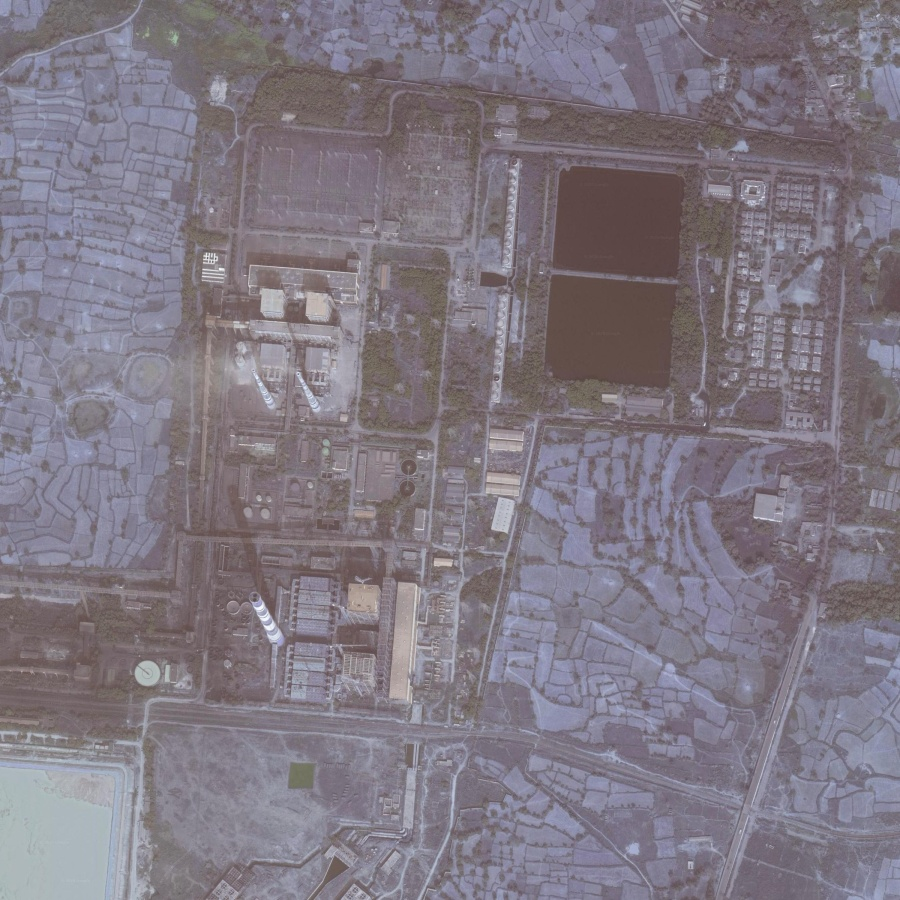PowerPlant: (205, 128, 696, 711)
